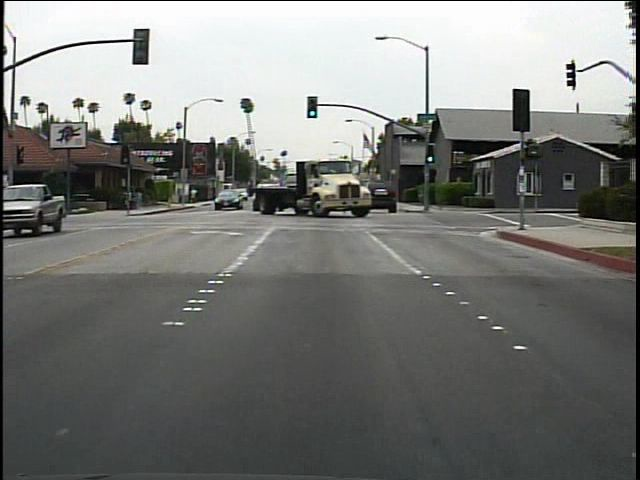person: (190, 184, 202, 207)
